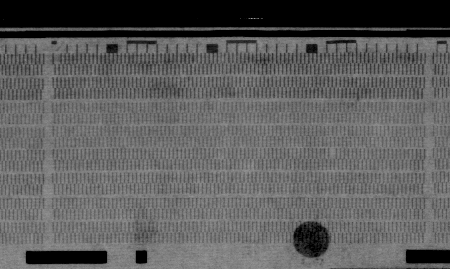Broken hole: (51, 52, 63, 65), (328, 147, 338, 160)
